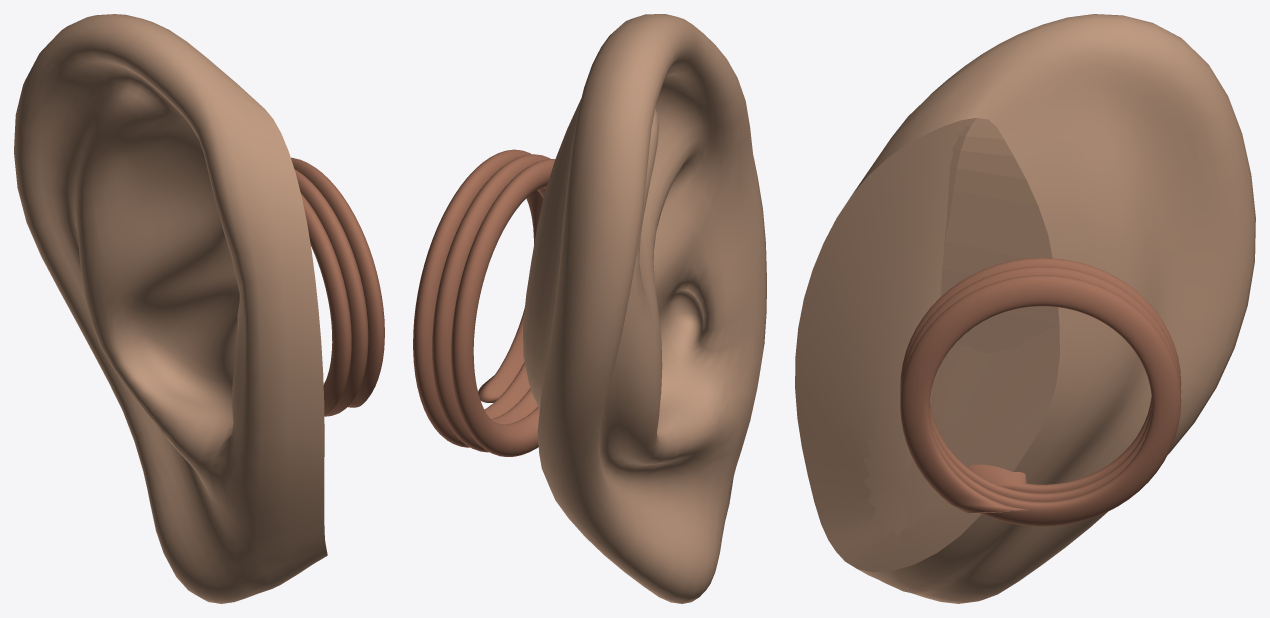
File: ear.fbx
3 views of the same model, side by side, from view 1: azimuth 30°, elevation 25°; view 2: azimuth 150°, elevation 25°; view 3: azimuth 270°, elevation 25° (orthographic). The views are drawn at different scales.
Parts seen in each view (by area): view 1: ear_2_free_low:Group48003, Circle; view 2: ear_2_free_low:Group48003, Circle; view 3: ear_2_free_low:Group48003, Circle.
Part boxes in pixels (x1,y1,x2,y2): ear_2_free_low:Group48003: [14, 14, 327, 603]; Circle: [291, 157, 384, 416]; ear_2_free_low:Group48003: [523, 14, 766, 603]; Circle: [413, 149, 554, 456]; ear_2_free_low:Group48003: [795, 14, 1255, 603]; Circle: [900, 258, 1181, 526].
Bounding box in the file's own units: 5.48 × 12.2 × 8.87.
